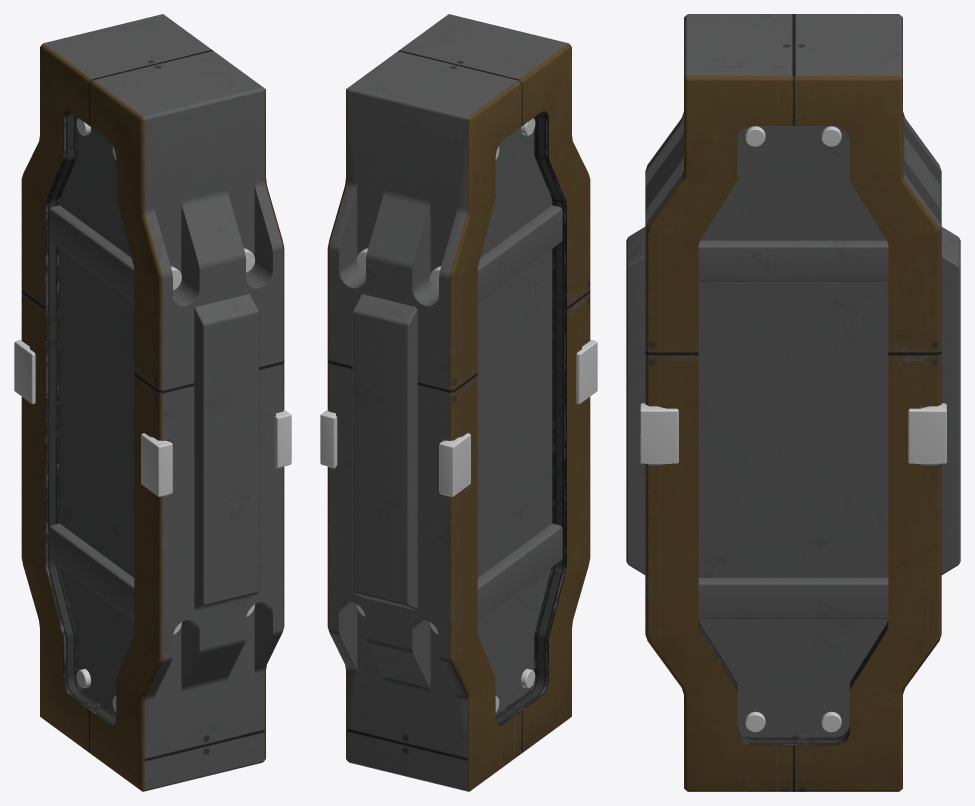
Rendered from Subway_Courner3.fbx.
3 renders of one model, left to right at view 1: azimuth 30°, elevation 25°; view 2: azimuth 150°, elevation 25°; view 3: azimuth 270°, elevation 25°, orthographic. The views are drawn at different scales.
Visible parts, largest first — view 1: polySurface921; view 2: polySurface921; view 3: polySurface921.
Part boxes in pixels (x1,y1,x2,y2): polySurface921: (14,14,291,791); polySurface921: (320,14,597,791); polySurface921: (626,14,960,791).
Size of the model in its own units: 83.05 by 400 by 169.
